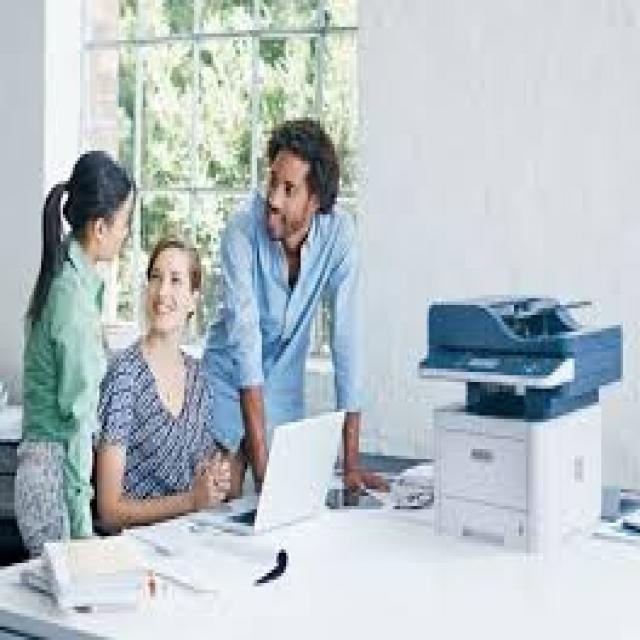printer: (420, 286, 638, 564)
